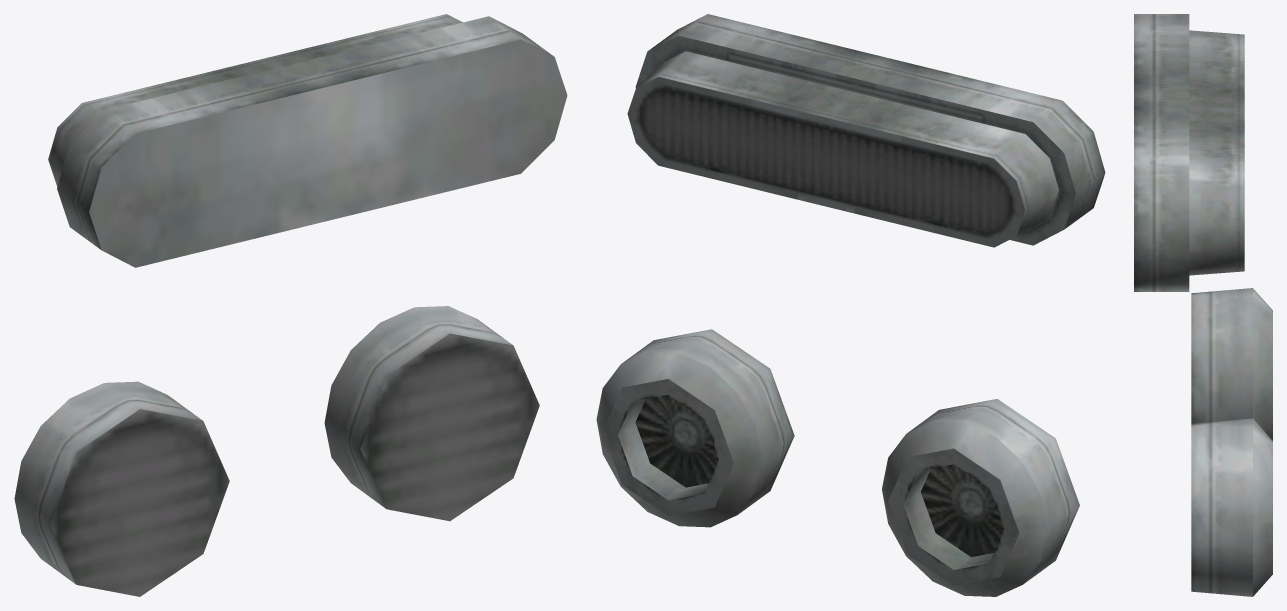
File: kse_firespray_engine_s01_l1.fbx
The picture shows the model from 3 angles, left to right: view 1: azimuth 30°, elevation 25°; view 2: azimuth 150°, elevation 25°; view 3: azimuth 270°, elevation 25°; orthographic projection. The views are drawn at different scales.
Parts seen in each view (by area): view 1: mesh_node; view 2: mesh_node; view 3: mesh_node.
Boxes of the visible parts, x1,y1,x2,y2 form: mesh_node: (14,14,567,596); mesh_node: (596,14,1105,596); mesh_node: (1134,14,1272,596).
Size of the model in its own units: 6.63 by 6.43 by 1.89.
